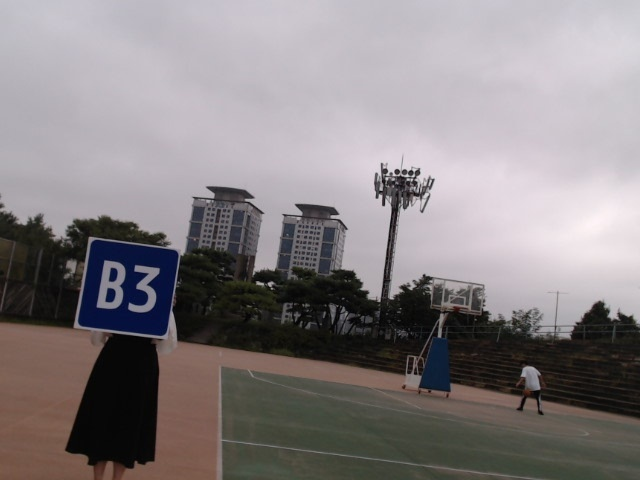delivery_b3: (72, 237, 193, 338)
